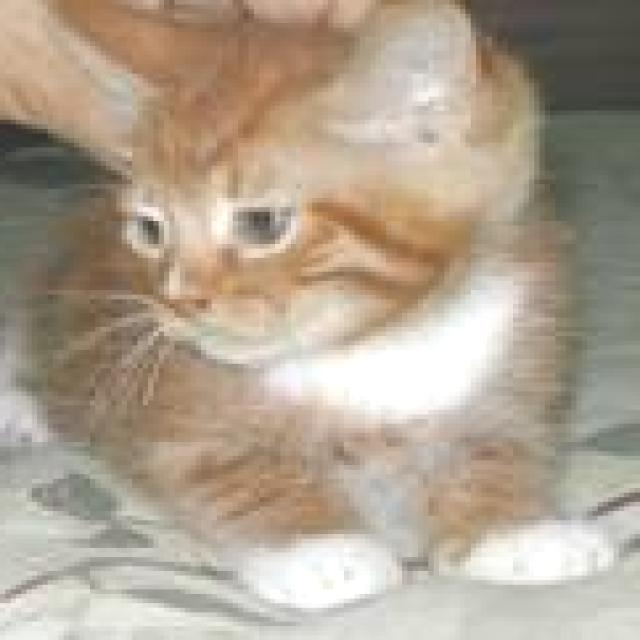Kucing: (24, 7, 592, 566)
